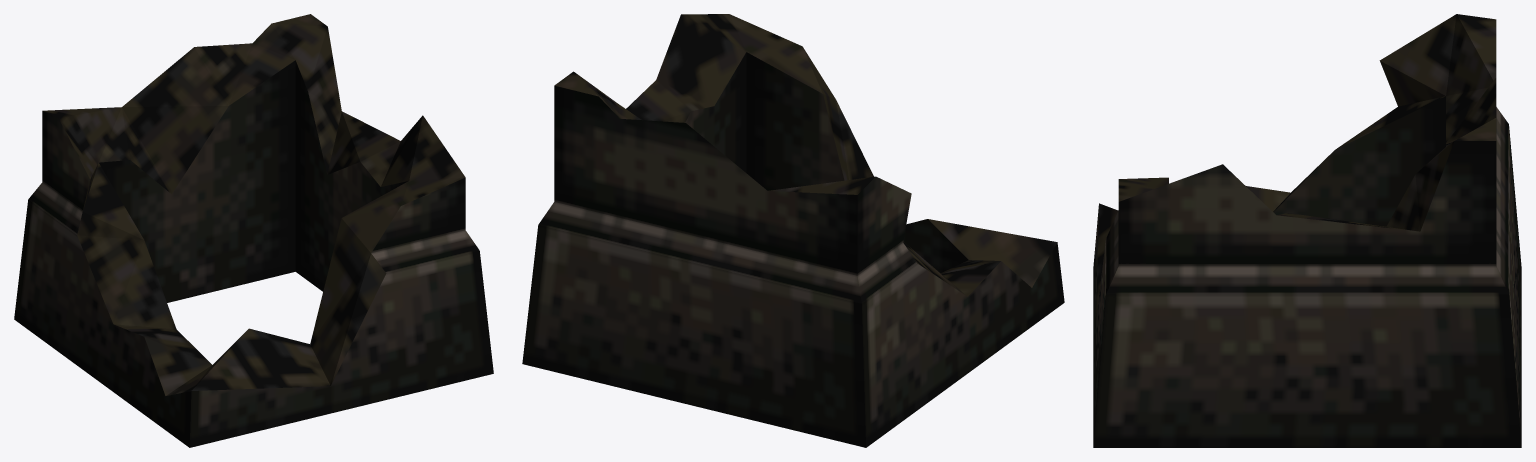
File: EnvMdrMD_Atl_A_Chimney_A.FBX
The picture shows the model from 3 angles, left to right: view 1: azimuth 30°, elevation 25°; view 2: azimuth 150°, elevation 25°; view 3: azimuth 270°, elevation 25°; orthographic projection. The views are drawn at different scales.
Parts seen in each view (by area): view 1: EnvMdrMD_Atl_A_Chimney_A; view 2: EnvMdrMD_Atl_A_Chimney_A; view 3: EnvMdrMD_Atl_A_Chimney_A.
Part boxes in pixels (x1=…): EnvMdrMD_Atl_A_Chimney_A: x1=14, y1=14, x2=493, y2=447; EnvMdrMD_Atl_A_Chimney_A: x1=522, y1=14, x2=1064, y2=447; EnvMdrMD_Atl_A_Chimney_A: x1=1093, y1=14, x2=1521, y2=447.
Size of the model in its own units: 170 by 130 by 170.
